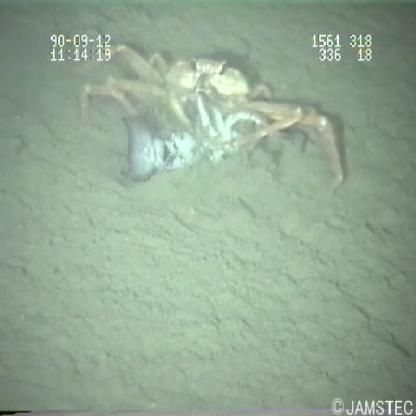Bio: (66, 40, 350, 204)
